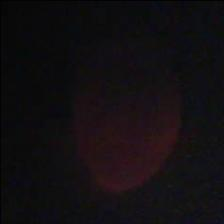fertile: (68, 26, 184, 192)
